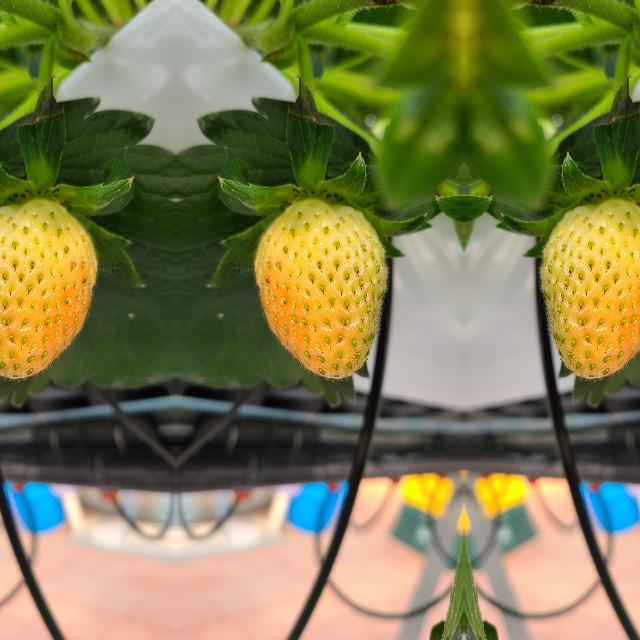Health_50: (250, 198, 388, 382), (538, 197, 640, 382), (0, 197, 100, 382)
